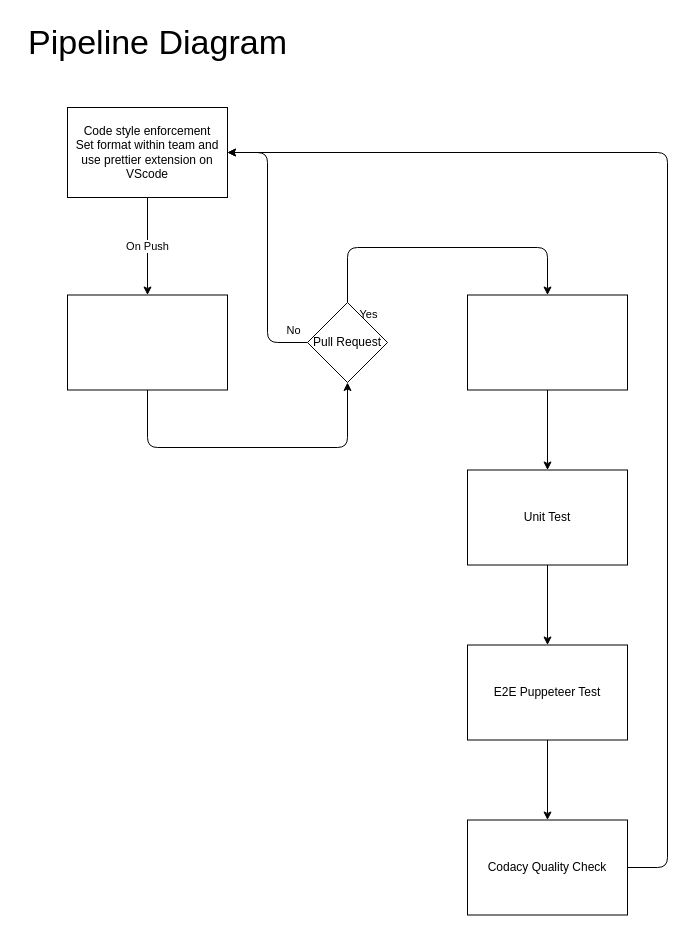
Some shapes in this 693 by 932 pixel diagram are drawn without their labels. The box of each missing label's shape, as (x1, y1, x2, y2) in pixels:
JSDoc Generation: (66, 294, 228, 390)
Linting Test: (466, 294, 628, 390)
